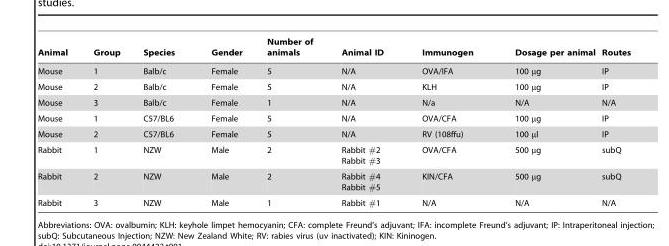table: (37, 37, 630, 207)
table column: (493, 37, 597, 207), (402, 37, 493, 207), (326, 37, 402, 207), (254, 37, 326, 207), (192, 37, 254, 207), (131, 37, 192, 207), (79, 37, 131, 207), (37, 37, 79, 207), (597, 37, 630, 207)
table column header: (37, 37, 630, 60)
table row: (37, 167, 630, 194), (37, 141, 630, 167), (37, 37, 630, 60), (37, 60, 630, 78), (37, 78, 630, 94), (37, 109, 630, 125), (37, 125, 630, 141), (37, 94, 630, 109), (37, 194, 630, 207)
